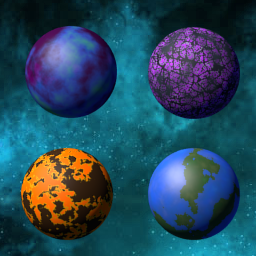planet: (20, 23, 130, 121), (141, 142, 243, 245), (145, 21, 246, 122), (13, 144, 119, 240)
